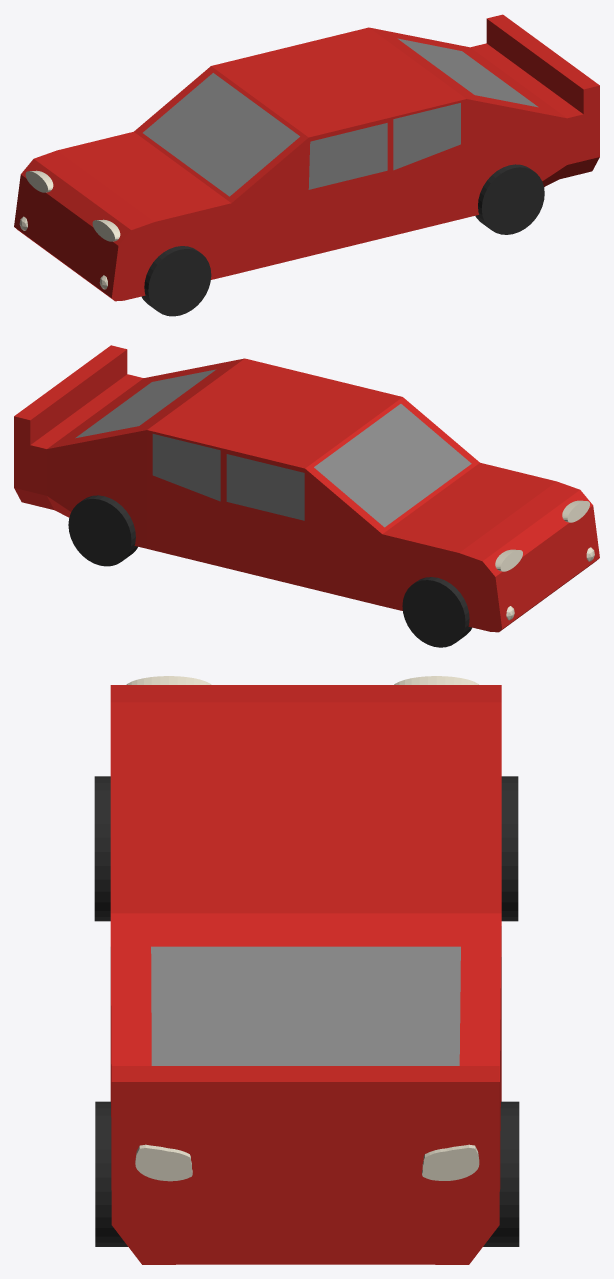
The model's file is carrinho2.fbx.
3 views of the same model, one above another, from view 1: azimuth 30°, elevation 25°; view 2: azimuth 150°, elevation 25°; view 3: azimuth 270°, elevation 25° (orthographic). The views are drawn at different scales.
Parts seen in each view (by area): view 1: McQueen; view 2: McQueen; view 3: McQueen.
Boxes of the visible parts, x1,y1,x2,y2 form: McQueen: [14, 14, 599, 316]; McQueen: [14, 345, 599, 647]; McQueen: [94, 676, 519, 1264].
Size of the model in its own units: 558 by 154 by 208.
